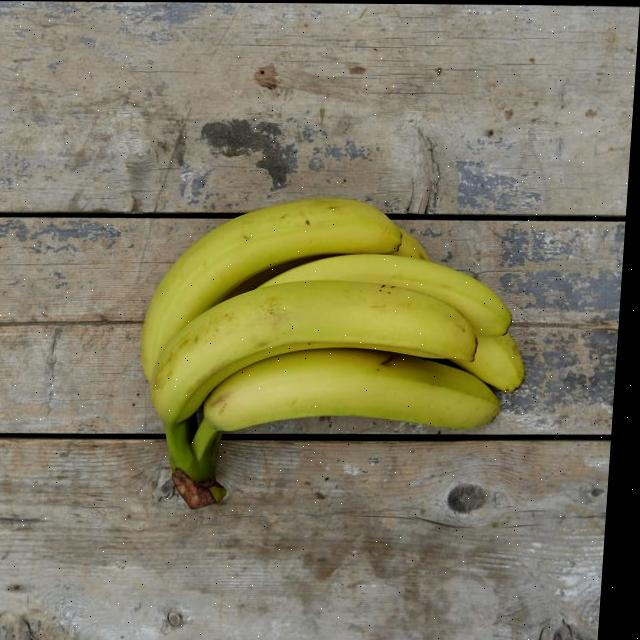banana: (125, 182, 550, 514)
